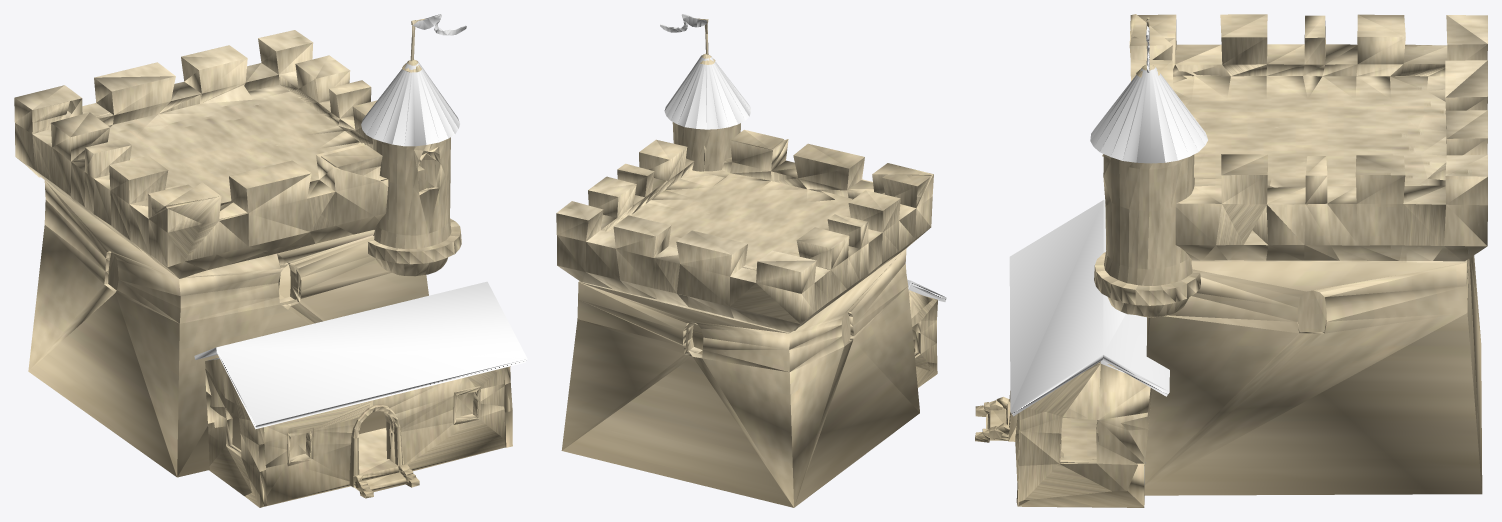
The picture shows the model from 3 angles, left to right: view 1: azimuth 30°, elevation 25°; view 2: azimuth 150°, elevation 25°; view 3: azimuth 270°, elevation 25°; orthographic projection. The views are drawn at different scales.
Visible parts, largest first — view 1: castle; view 2: castle; view 3: castle.
Boxes of the visible parts, bbox=[...] form: castle: bbox=[14, 14, 527, 507]; castle: bbox=[556, 14, 946, 507]; castle: bbox=[975, 14, 1487, 507].
Bounding box in the file's own units: 2.37 × 2.9 × 2.9.
2 materials, 1 textured.
